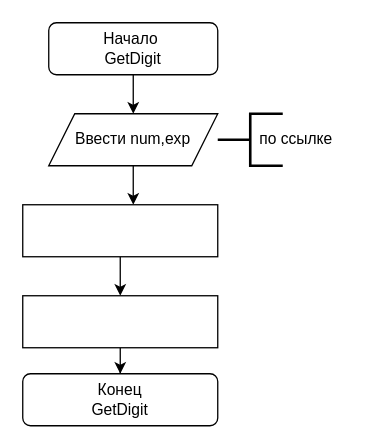
Some shapes in this 371 by 448 pixel diagram are drawn without their labels. The centre of each missing label's shape, as x and y in pixels:
GetDigit = (num // exp) % 10: the point at 119,230
Вернуть GetDigit: the point at 119,321
